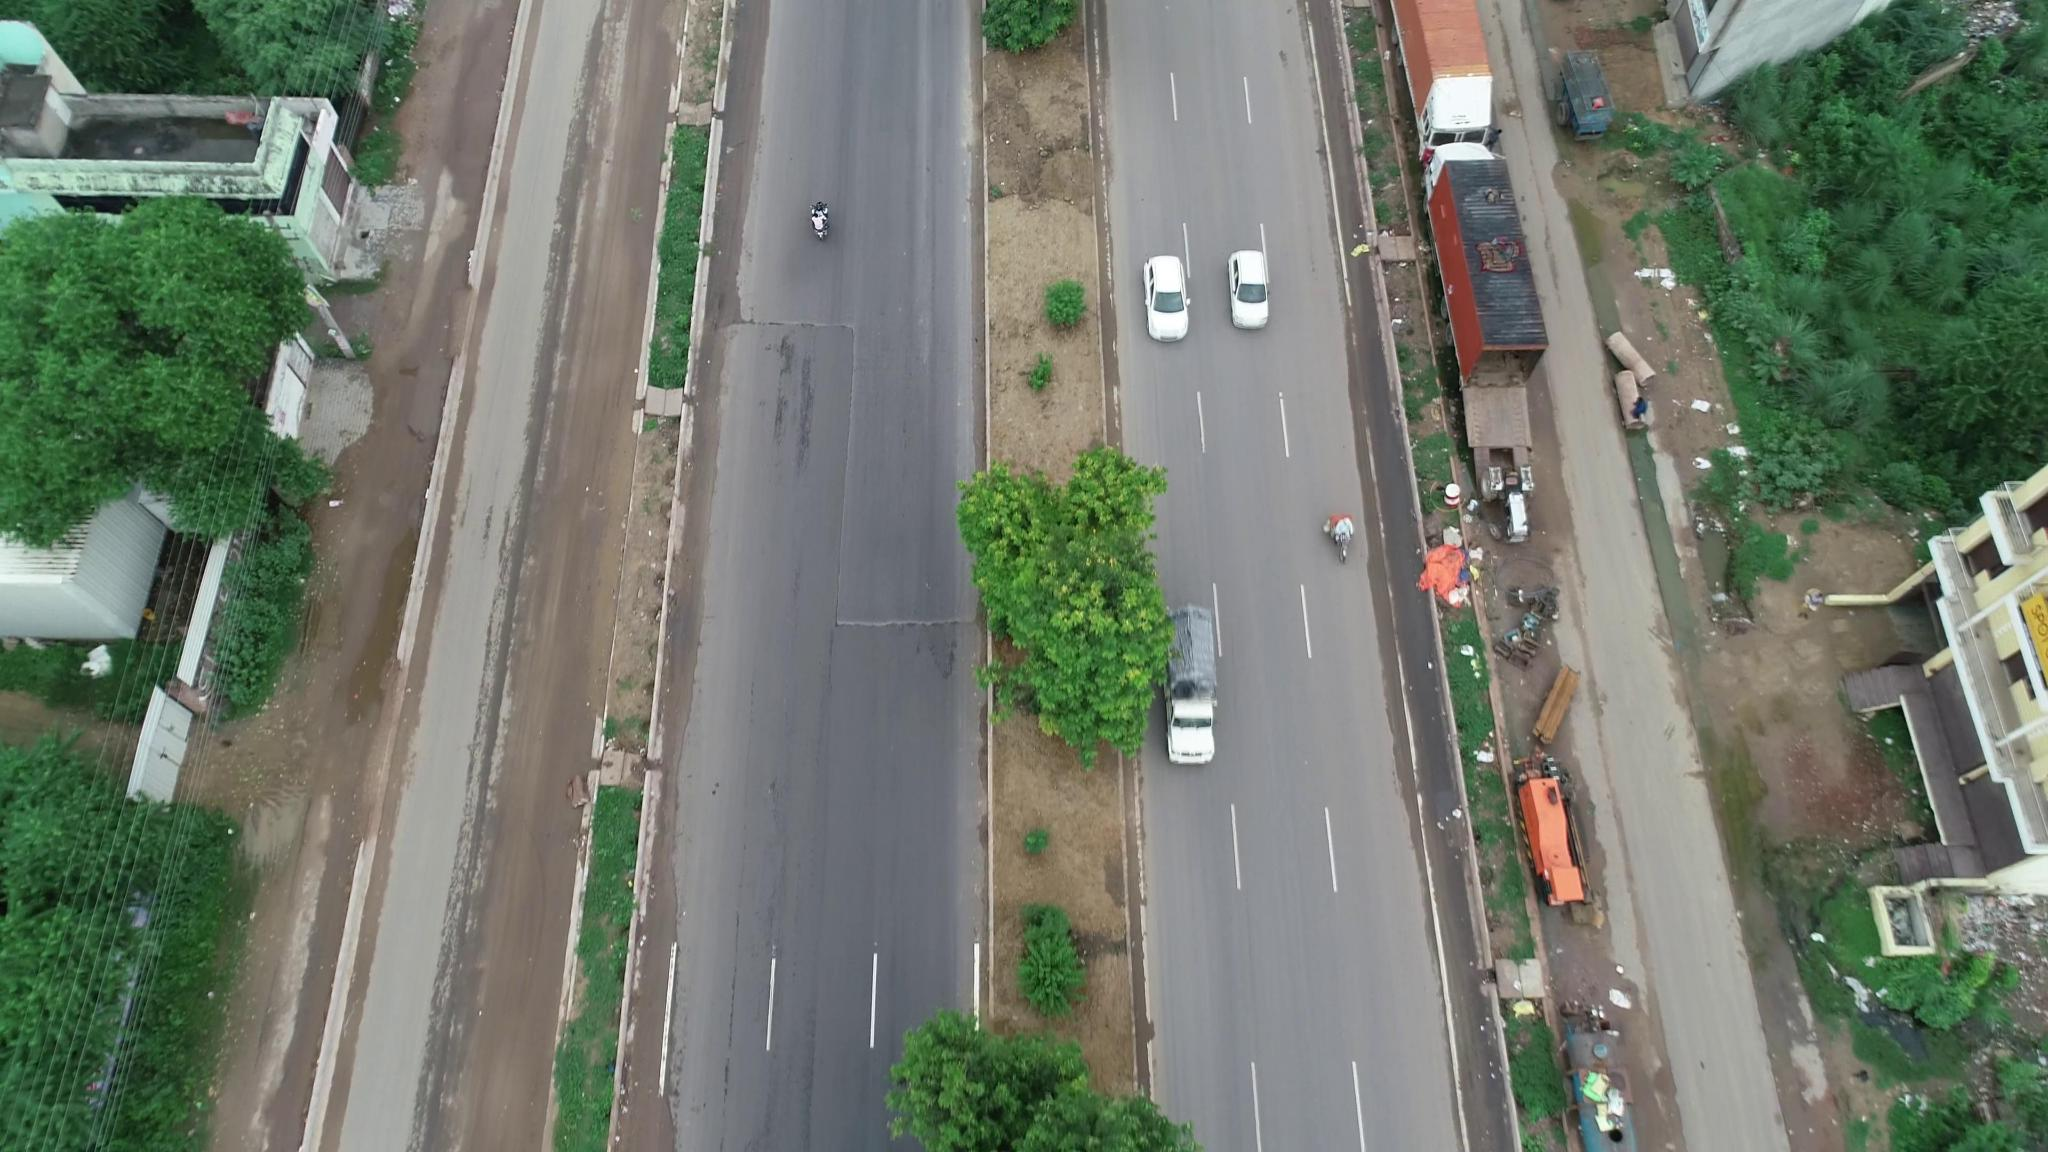Muddy_road: (520, 390, 633, 715)
